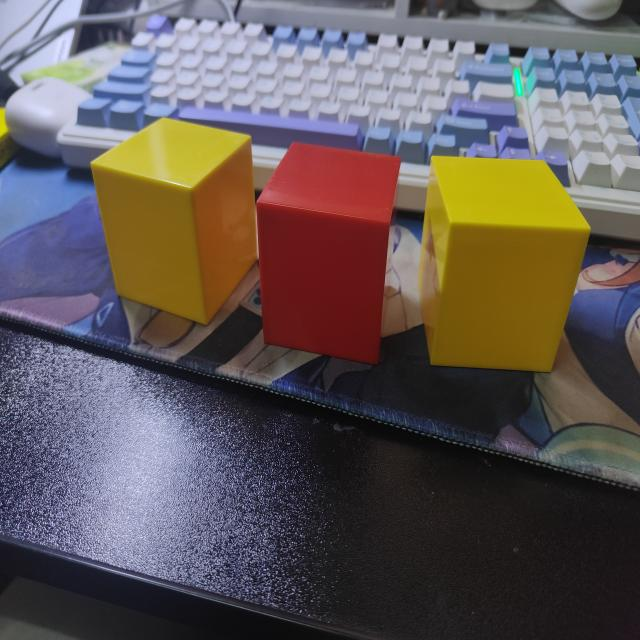red: (255, 142, 400, 365)
yellow: (414, 154, 592, 375), (90, 118, 258, 331)
